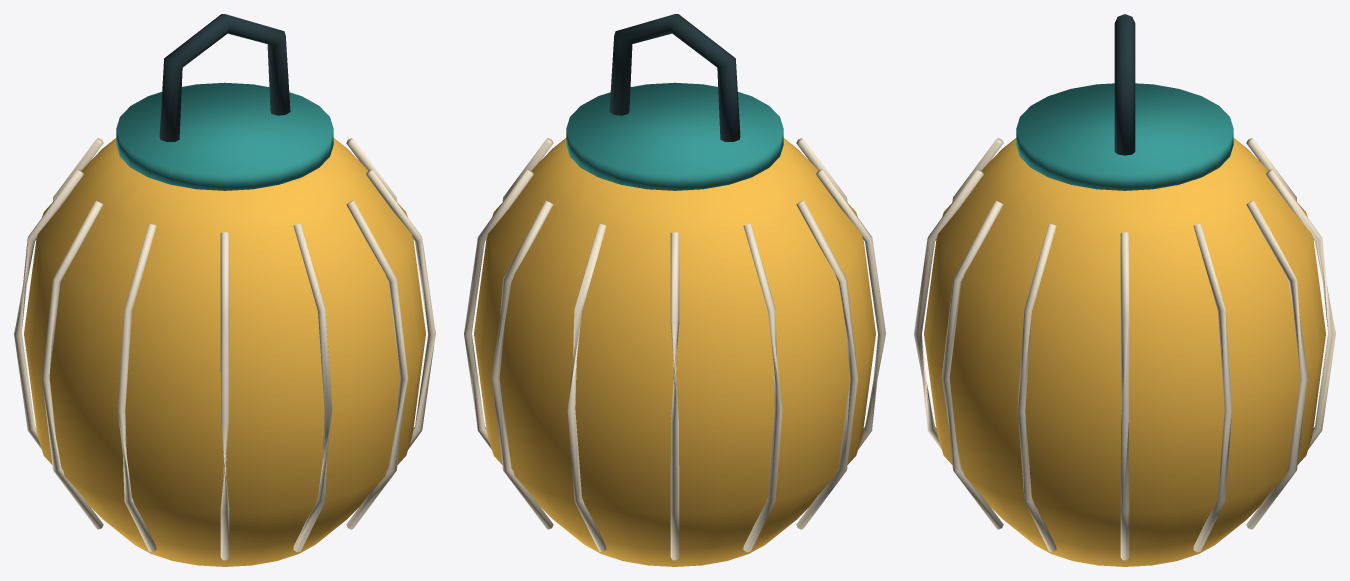
Rendered from lantern.glb.
The picture shows the model from 3 angles, left to right: view 1: azimuth 30°, elevation 25°; view 2: azimuth 150°, elevation 25°; view 3: azimuth 270°, elevation 25°; orthographic projection.
Parts seen in each view (by area): view 1: GEO-lantern; view 2: GEO-lantern; view 3: GEO-lantern.
Part boxes in pixels (x1,y1,x2,y2): GEO-lantern: (14,14,435,566); GEO-lantern: (464,14,885,566); GEO-lantern: (914,14,1335,566).
Size of the model in its own units: 0.284 by 0.377 by 0.2832.
